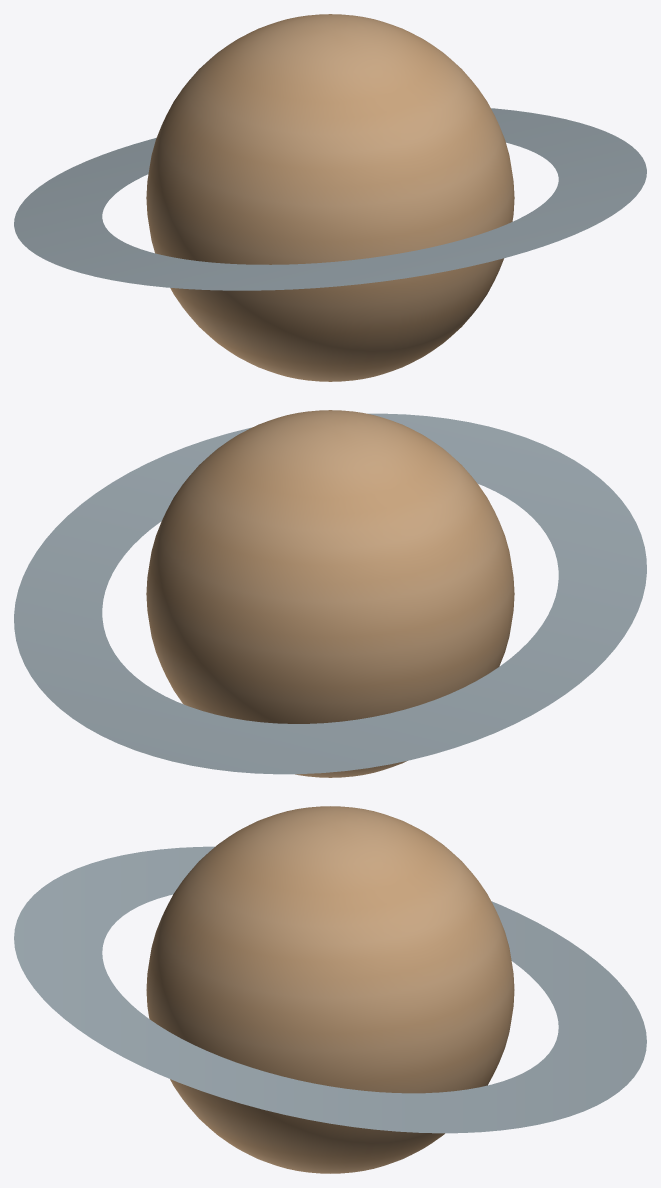
Rendered from planet_08.glb.
3 renders of one model, top to bottom at view 1: azimuth 30°, elevation 25°; view 2: azimuth 150°, elevation 25°; view 3: azimuth 270°, elevation 25°, orthographic.
Visible parts, largest first — view 1: planet_08_painted_mesh; view 2: planet_08_painted_mesh; view 3: planet_08_painted_mesh.
Part boxes in pixels (x1=…): planet_08_painted_mesh: x1=14, y1=14, x2=646, y2=381; planet_08_painted_mesh: x1=14, y1=410, x2=646, y2=777; planet_08_painted_mesh: x1=14, y1=806, x2=646, y2=1173.
Size of the model in its own units: 3.44 by 2 by 3.44.
